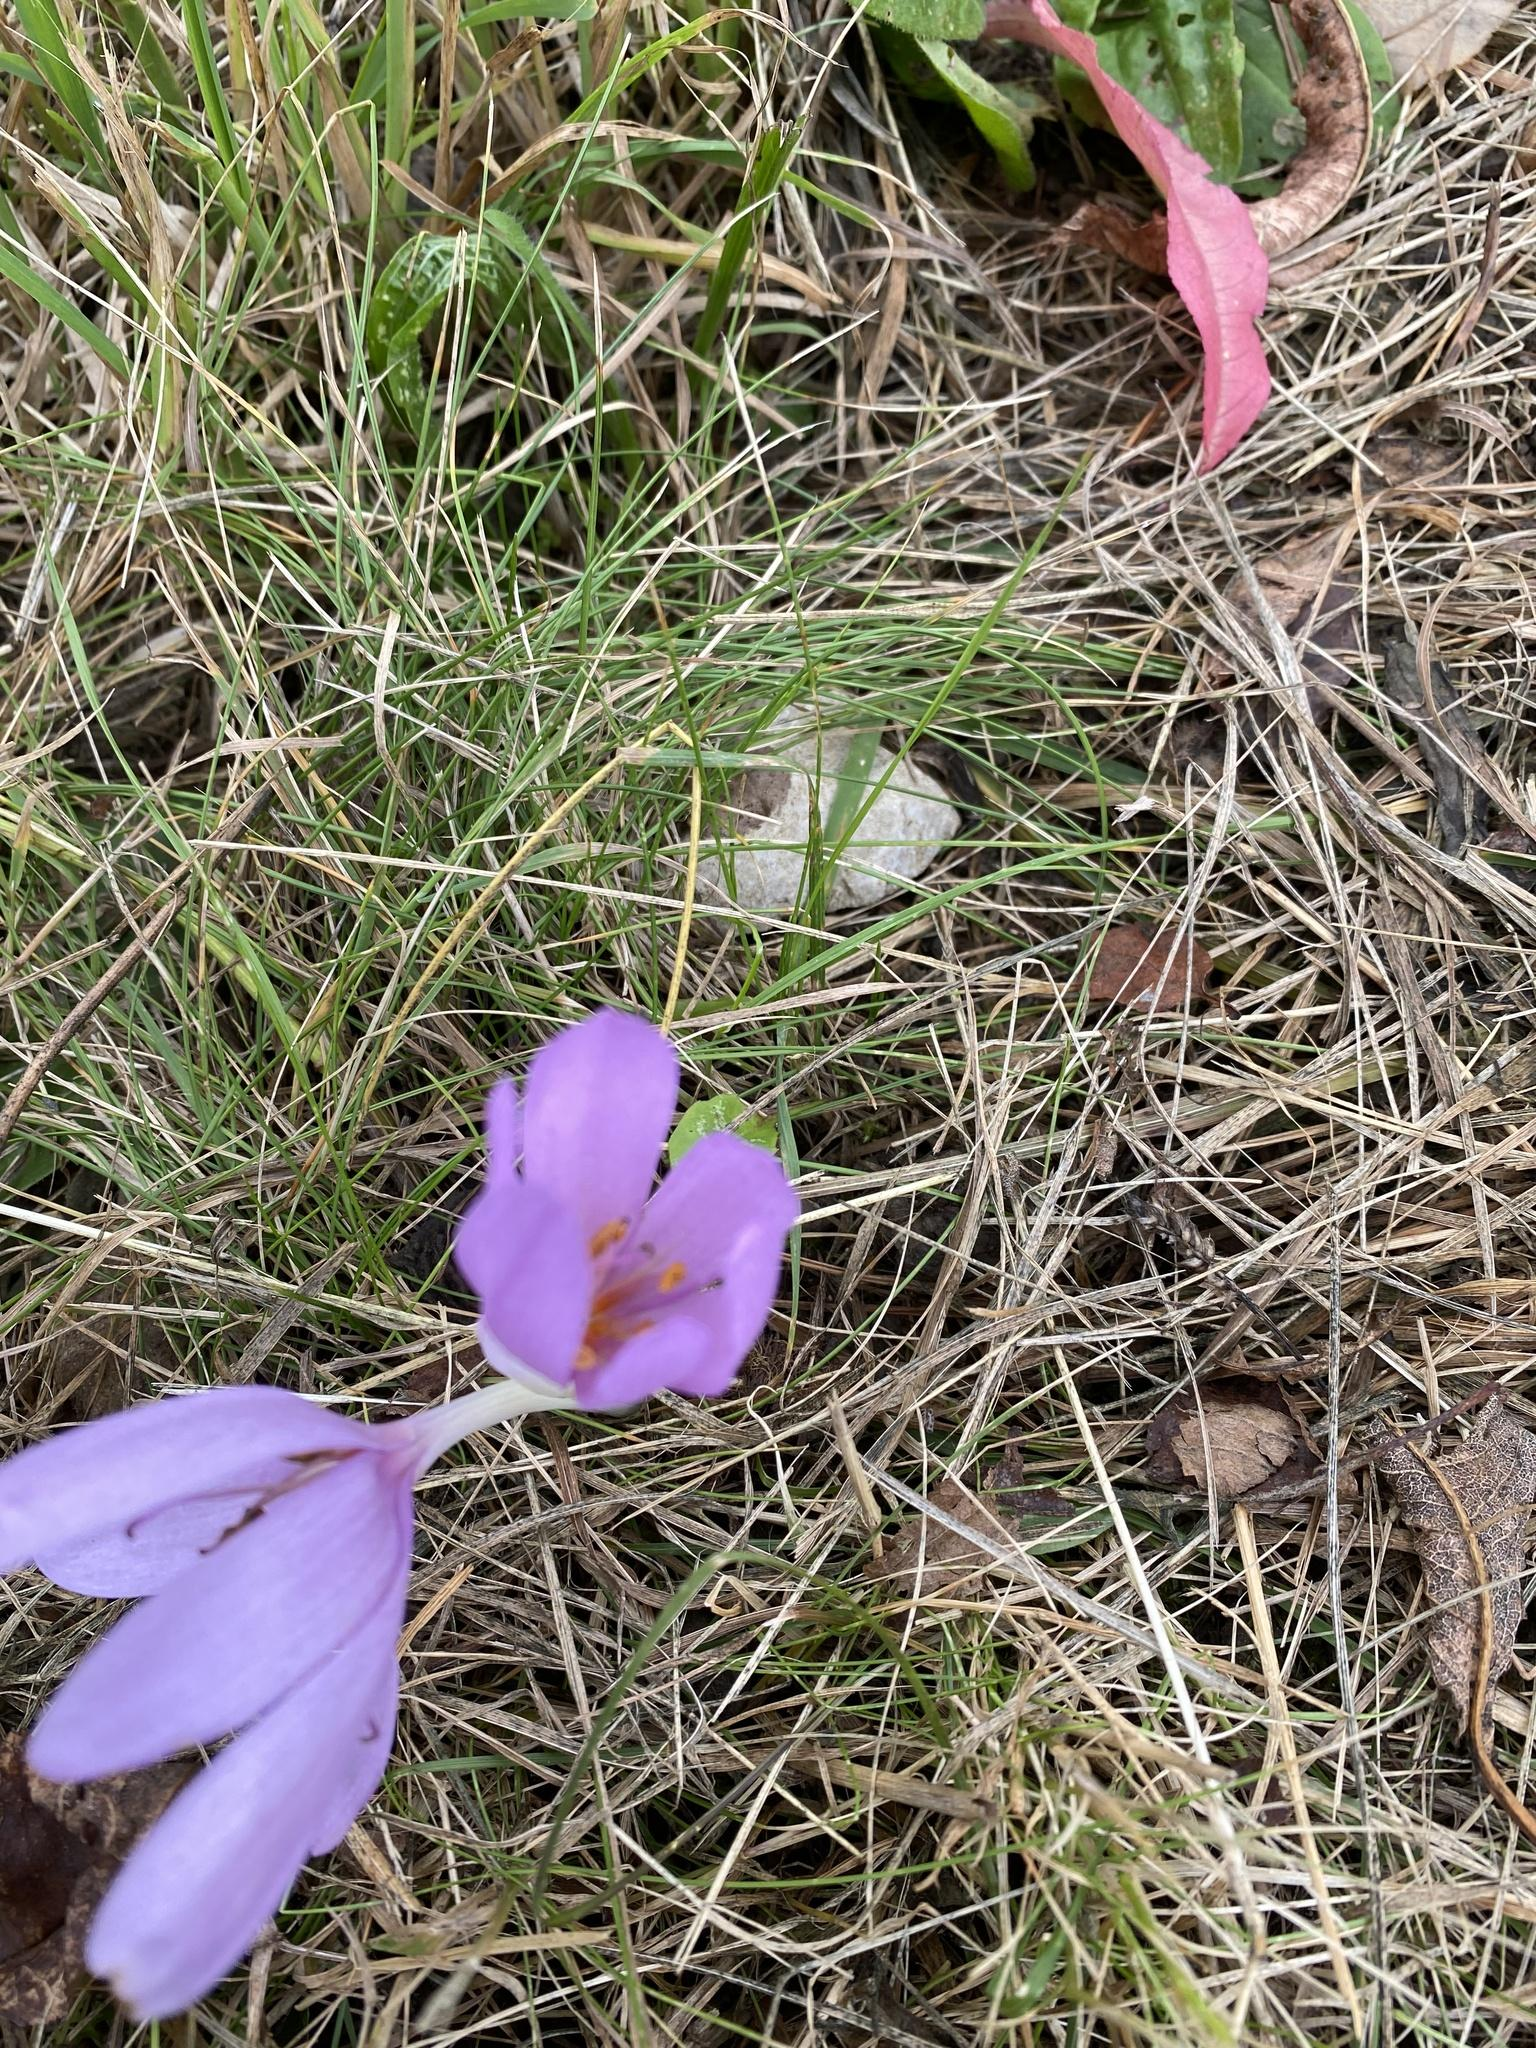Colchicum autumnale L: (0, 958, 845, 2048)
